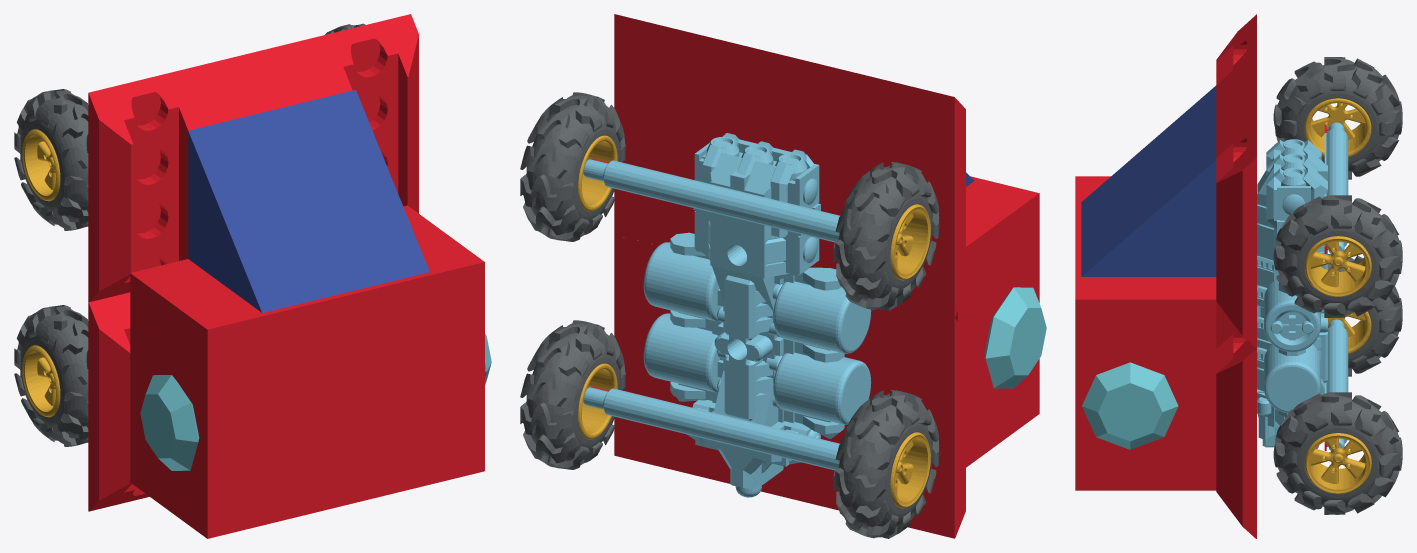
Rendered from tinker.obj.
The picture shows the model from 3 angles, left to right: view 1: azimuth 30°, elevation 25°; view 2: azimuth 150°, elevation 25°; view 3: azimuth 270°, elevation 25°; orthographic projection. The views are drawn at different scales.
Parts seen in each view (by area): view 1: group_0_15277357, group_0_3888547, group_0_6383466, group_0_7720667, group_0_14789940; view 2: group_0_15277357, group_0_8768998, group_0_6383466, group_0_14789940, group_0_7720667; view 3: group_0_15277357, group_0_6383466, group_0_3888547, group_0_8768998, group_0_14789940, group_0_7720667.
Part boxes in pixels (x1,y1,x2,y2): group_0_15277357: [88, 14, 484, 538]; group_0_3888547: [188, 90, 429, 312]; group_0_6383466: [14, 23, 365, 446]; group_0_7720667: [140, 333, 491, 470]; group_0_14789940: [22, 129, 60, 417]; group_0_15277357: [591, 14, 1039, 538]; group_0_8768998: [583, 133, 871, 497]; group_0_6383466: [520, 92, 939, 538]; group_0_14789940: [578, 135, 930, 508]; group_0_7720667: [984, 287, 1046, 388]; group_0_15277357: [1075, 14, 1328, 538]; group_0_6383466: [1273, 57, 1402, 514]; group_0_3888547: [1081, 85, 1216, 276]; group_0_8768998: [1257, 122, 1348, 450]; group_0_14789940: [1304, 98, 1371, 493]; group_0_7720667: [1082, 362, 1178, 449].
Size of the model in its own units: 53.68 by 62 by 48.22.
